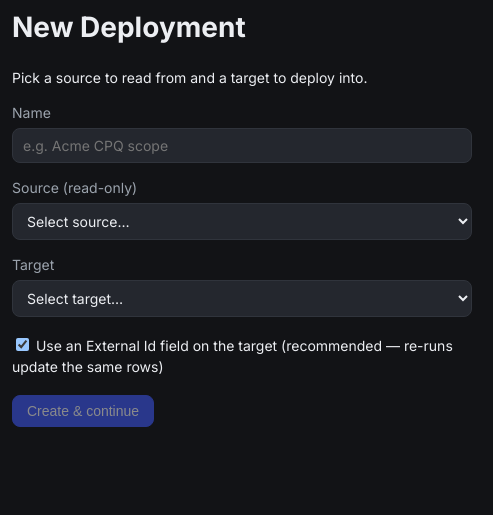
NewDeploymentPage › surfaces a create failure reactively (no stale-closure swallow)
The width and height of the screenshot is (493, 515).
Check: the text "Source (read-only)" is shown, box [12, 178, 137, 196]
Type "My Deploy" into the field with placeholder "e.g. Acme CPQ scope" at (242, 145), box [12, 128, 472, 162]
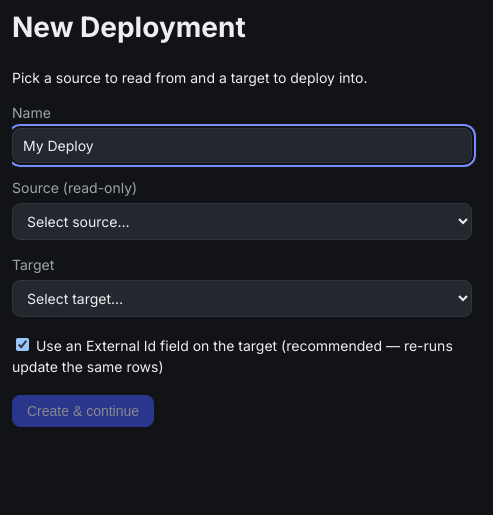
Select "srcbox" in the dropdown labelled "Source (read-only)" at (242, 221), box [12, 202, 472, 240]
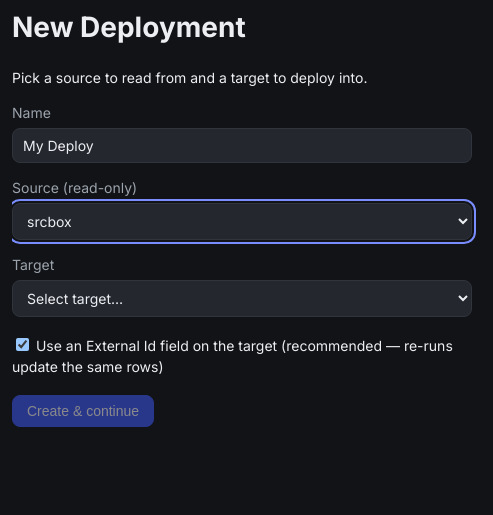
Select "sb1" in the dropdown labelled "Target" at (242, 298), box [12, 280, 472, 316]
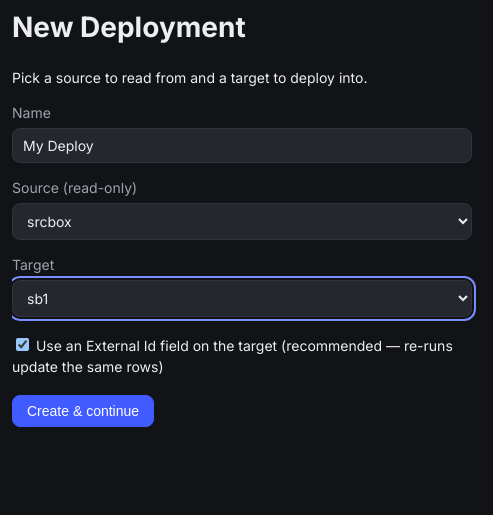
Click the button "Create & continue" at (83, 410), box [12, 394, 154, 426]
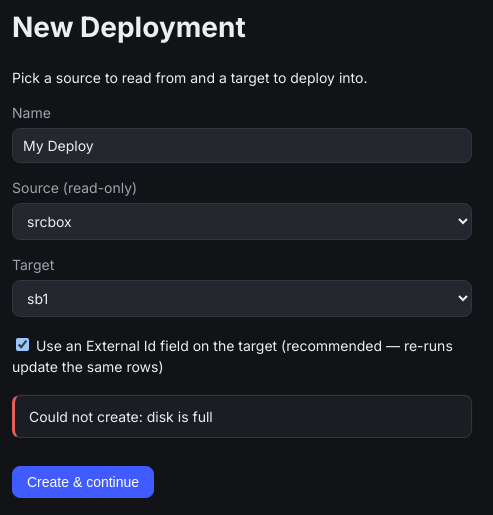
Check: the text "Could not create: disk is full" is shown, box [12, 394, 472, 438]
